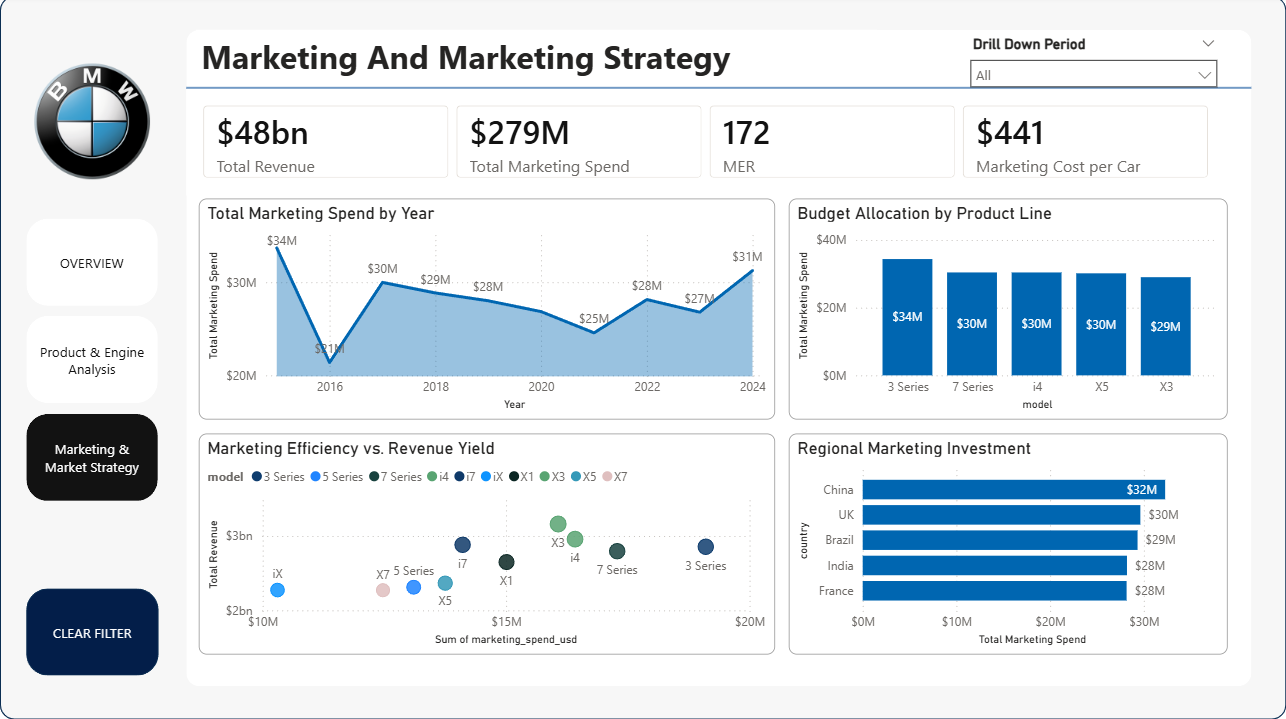

The dashboard page shown, as its layout file describes it:
{"tool":"powerbi","page":{"name":"Marketing & Market Strategy","canvas":[1280,720],"ordinal":2},"visuals":[{"type":"shape","box":[0,0,1280,720],"z":0},{"type":"shape","box":[0,0,1280,720],"z":1000},{"type":"shape","box":[185,33.3,1060,653.3],"z":2000},{"type":"image","box":[26.7,66.7,131.7,115],"z":3000},{"type":"textbox","box":[195,33.3,676.7,58.3],"z":4000},{"type":"cardVisual","fields":{"Data":["bmw_global_sales_dataset.Total Revenue","bmw_global_sales_dataset.Total Marketing Spend","bmw_global_sales_dataset.MARKETING EFFECIENCY RATIO","bmw_global_sales_dataset.Marketing Cost per Car"]},"box":[185,91.7,1036.7,106.7],"z":5000},{"type":"shape","box":[185,61.7,1060,58.3],"z":6000},{"type":"pageNavigator","box":[26.7,221.7,131.7,283.3],"z":7000},{"type":"shape","box":[26.7,590,131.7,86.7],"z":8000},{"type":"scatterChart","title":"Marketing Efficiency vs. Revenue Yield","fields":{"X":["Sum(bmw_global_sales_dataset.marketing_spend_usd)"],"Y":["bmw_global_sales_dataset.Total Revenue"],"Size":["bmw_global_sales_dataset.Total Units Sold"],"Series":["bmw_global_sales_dataset.model"]},"box":[198.3,435,573.3,220],"z":9000},{"type":"clusteredColumnChart","title":"Budget Allocation by Product Line","fields":{"Y":["bmw_global_sales_dataset.Total Marketing Spend"],"Category":["bmw_global_sales_dataset.model"]},"box":[785,201.7,436.7,220],"z":10000},{"type":"clusteredBarChart","title":"Regional Marketing Investment","fields":{"Y":["bmw_global_sales_dataset.Total Marketing Spend"],"Category":["bmw_global_sales_dataset.country"]},"box":[785,435,436.7,220],"z":11000},{"type":"areaChart","fields":{"Category":["bmw_global_sales_dataset.Date.Variation.Date Hierarchy.Year","bmw_global_sales_dataset.Date.Variation.Date Hierarchy.Quarter","bmw_global_sales_dataset.Date.Variation.Date Hierarchy.Month","bmw_global_sales_dataset.Date.Variation.Date Hierarchy.Day"],"Y":["bmw_global_sales_dataset.Total Marketing Spend"]},"box":[198.3,201.7,573.3,220],"z":12000},{"type":"slicer","fields":{"Values":["bmw_global_sales_dataset.Date.Variation.Date Hierarchy.Year","bmw_global_sales_dataset.Date.Variation.Date Hierarchy.Quarter","bmw_global_sales_dataset.Date.Variation.Date Hierarchy.Month"]},"box":[955.4,34.8,266.2,57.2],"z":13000}]}

Visuals, with their boxes in screenshot pixels (x1, y1, x2, y2), scaled from the page's 1280x720 canvas onto the 1286x719 screenshot:
shape: 0,0,1285,718
shape: 0,0,1285,718
shape: 186,33,1251,686
image: 27,67,159,181
textbox: 196,33,876,91
cardVisual - bmw_global_sales_dataset.Total Revenue x bmw_global_sales_dataset.Total Marketing Spend: 186,92,1227,198
shape: 186,62,1251,120
pageNavigator: 27,221,159,504
shape: 27,589,159,676
"Marketing Efficiency vs. Revenue Yield" scatterChart: 199,434,775,654
"Budget Allocation by Product Line" clusteredColumnChart: 789,201,1227,421
"Regional Marketing Investment" clusteredBarChart: 789,434,1227,654
areaChart - bmw_global_sales_dataset.Date.Variation.Date Hierarchy.Year x bmw_global_sales_dataset.Date.Variation.Date Hierarchy.Quarter: 199,201,775,421
slicer - bmw_global_sales_dataset.Date.Variation.Date Hierarchy.Year x bmw_global_sales_dataset.Date.Variation.Date Hierarchy.Quarter: 960,35,1227,92
